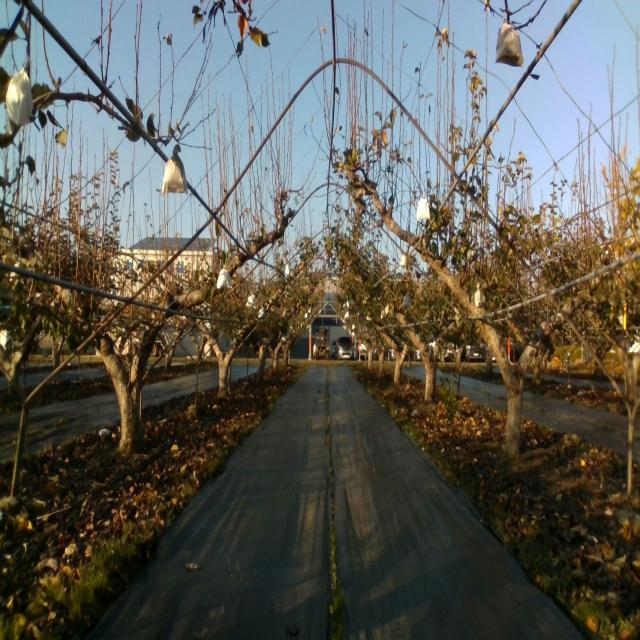pearbags: (5, 56, 32, 126), (496, 17, 524, 67), (160, 147, 188, 196), (416, 193, 431, 222), (216, 265, 232, 291), (473, 282, 484, 308)
